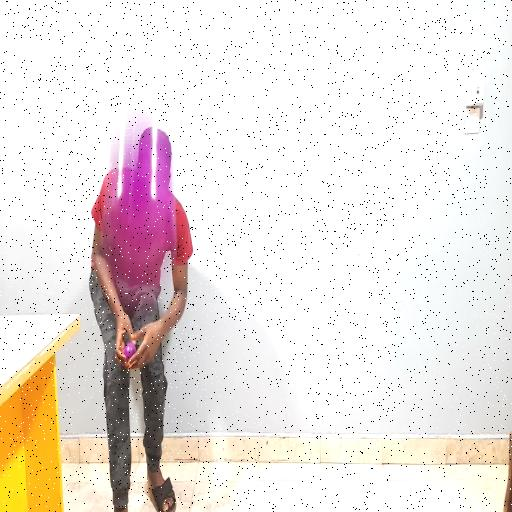plastic-ball: (100, 113, 175, 313)
